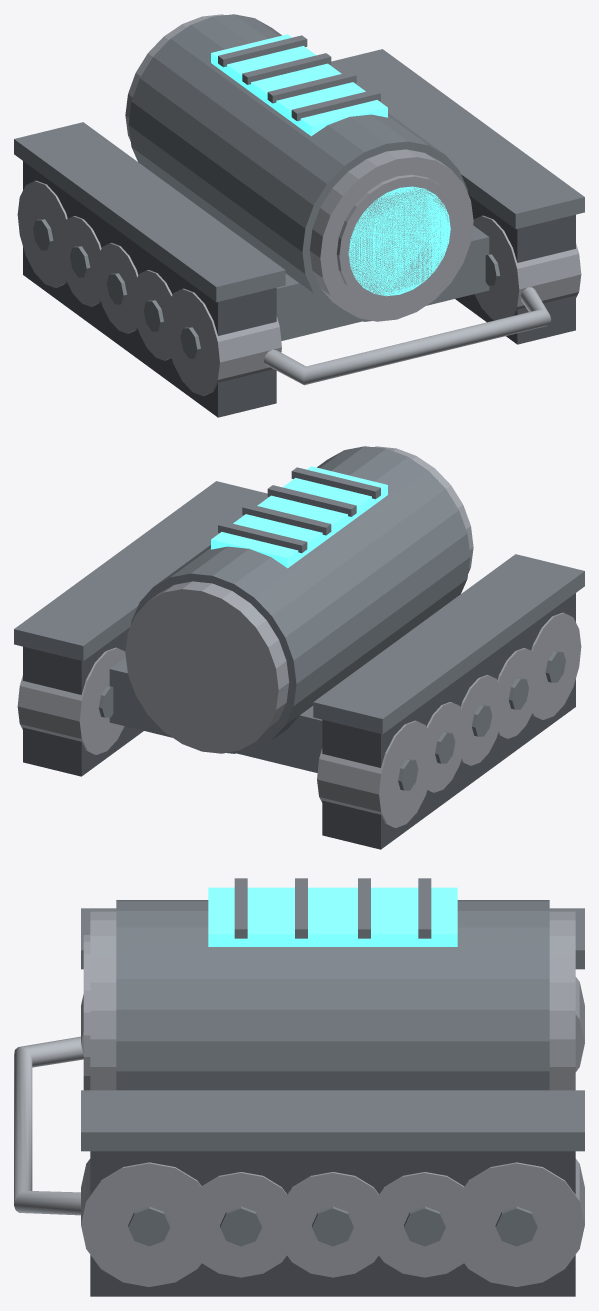
File: mobile_core_drone.glb
3 renders of one model, top to bottom at view 1: azimuth 30°, elevation 25°; view 2: azimuth 150°, elevation 25°; view 3: azimuth 270°, elevation 25°, orthographic. The views are drawn at different scales.
Parts seen in each view (by area): view 1: Core_Capsule_Body, Mudguard_Left, Mudguard_Right, Track_Belt_Left, Core_Cap_Front, Front_Reactor_Turbine_Glow, Front_Reactor_Ring, Wheel_Left_0, Front_Crash_Bumper, Top_Energy_Window_Glow, Wheel_Right_0, Track_Belt_Right (+10 smaller); view 2: Core_Capsule_Body, Core_Cap_Rear, Mudguard_Left, Mudguard_Right, Track_Belt_Left, Wheel_Left_4, Wheel_Right_4, Top_Energy_Window_Glow, Track_Belt_Right, Central_Chassis_Cross, Wheel_Left_0, Wheel_Left_2 (+7 smaller); view 3: Core_Capsule_Body, Mudguard_Right, Track_Belt_Right, Top_Energy_Window_Glow, Wheel_Right_0, Wheel_Right_4, Wheel_Right_3, Wheel_Right_2, Wheel_Right_1, Front_Crash_Bumper, Core_Cap_Front, Core_Cap_Rear (+12 smaller).
Part boxes in pixels (x1=…): Core_Capsule_Body: x1=128, y1=14, x2=467, y2=321; Mudguard_Left: x1=14, y1=122, x2=285, y2=302; Mudguard_Right: x1=330, y1=49, x2=584, y2=229; Track_Belt_Left: x1=23, y1=161, x2=276, y2=417; Core_Cap_Front: x1=309, y1=149, x2=473, y2=321; Front_Reactor_Turbine_Glow: x1=348, y1=186, x2=450, y2=296; Front_Reactor_Ring: x1=336, y1=174, x2=459, y2=305; Wheel_Left_0: x1=165, y1=288, x2=281, y2=395; Front_Crash_Bumper: x1=263, y1=287, x2=551, y2=385; Top_Energy_Window_Glow: x1=211, y1=34, x2=387, y2=136; Wheel_Right_0: x1=473, y1=215, x2=581, y2=320; Track_Belt_Right: x1=455, y1=195, x2=575, y2=344; Core_Capsule_Body: x1=131, y1=446, x2=470, y2=753; Core_Cap_Rear: x1=125, y1=581, x2=289, y2=753; Mudguard_Left: x1=313, y1=554, x2=584, y2=734; Mudguard_Right: x1=14, y1=481, x2=268, y2=661; Track_Belt_Left: x1=322, y1=593, x2=575, y2=849; Wheel_Left_4: x1=317, y1=720, x2=433, y2=827; Wheel_Right_4: x1=17, y1=647, x2=125, y2=754; Top_Energy_Window_Glow: x1=211, y1=466, x2=387, y2=568; Track_Belt_Right: x1=23, y1=627, x2=143, y2=776; Central_Chassis_Cross: x1=109, y1=657, x2=322, y2=772; Wheel_Left_0: x1=529, y1=612, x2=581, y2=719; Wheel_Left_2: x1=457, y1=675, x2=502, y2=765; Core_Capsule_Body: x1=116, y1=900, x2=549, y2=1090; Mudguard_Right: x1=81, y1=1090, x2=584, y2=1151; Track_Belt_Right: x1=90, y1=1151, x2=575, y2=1296; Top_Energy_Window_Glow: x1=208, y1=887, x2=457, y2=946; Wheel_Right_0: x1=81, y1=1159, x2=217, y2=1286; Wheel_Right_4: x1=449, y1=1159, x2=584, y2=1286; Wheel_Right_3: x1=367, y1=1172, x2=482, y2=1277; Wheel_Right_2: x1=276, y1=1172, x2=390, y2=1277; Wheel_Right_1: x1=184, y1=1172, x2=298, y2=1277; Front_Crash_Bumper: x1=14, y1=1036, x2=83, y2=1215; Core_Cap_Front: x1=90, y1=910, x2=116, y2=1090; Core_Cap_Rear: x1=549, y1=910, x2=575, y2=1090.
Size of the model in its own units: 2.02 by 1.19 by 2.18.
